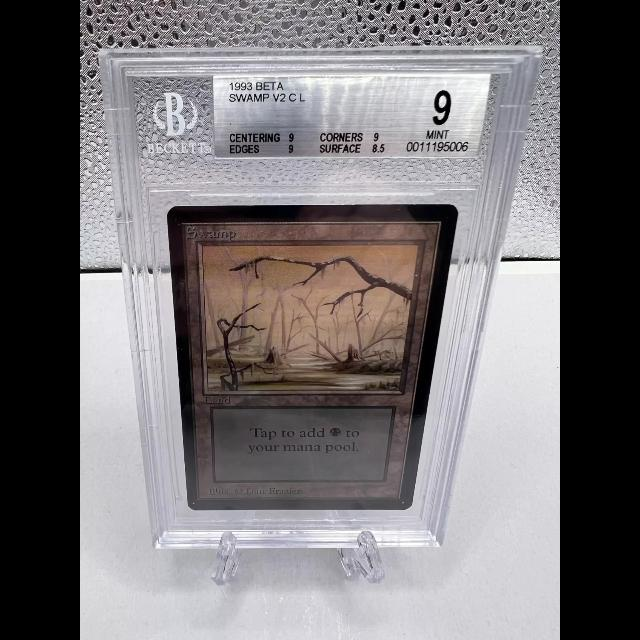bgs_label: (166, 204, 460, 511), (213, 74, 492, 158)
bgs_slab: (97, 45, 545, 550)
